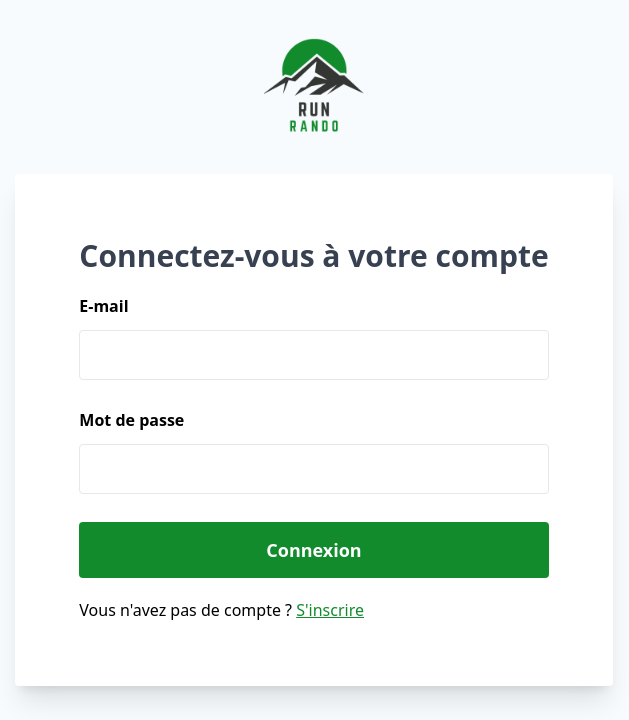
Test case: Login proccess › should renders 2 error messages if the user tries to submit the form with empty fields
Click the button "Connexion": {"x": 314, "y": 550} [79,522,548,578]
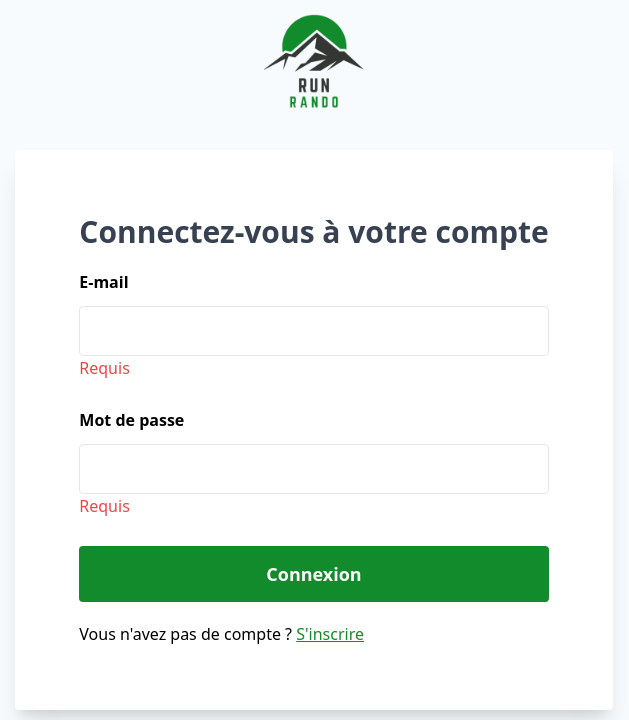
Expected: the number of elements with test id "inputErr" is 2, [79,357,130,379]; [79,495,130,517]
Expected: the text with test id "inputErr" below "E-mail" reads "Requis", [79,357,130,379]
